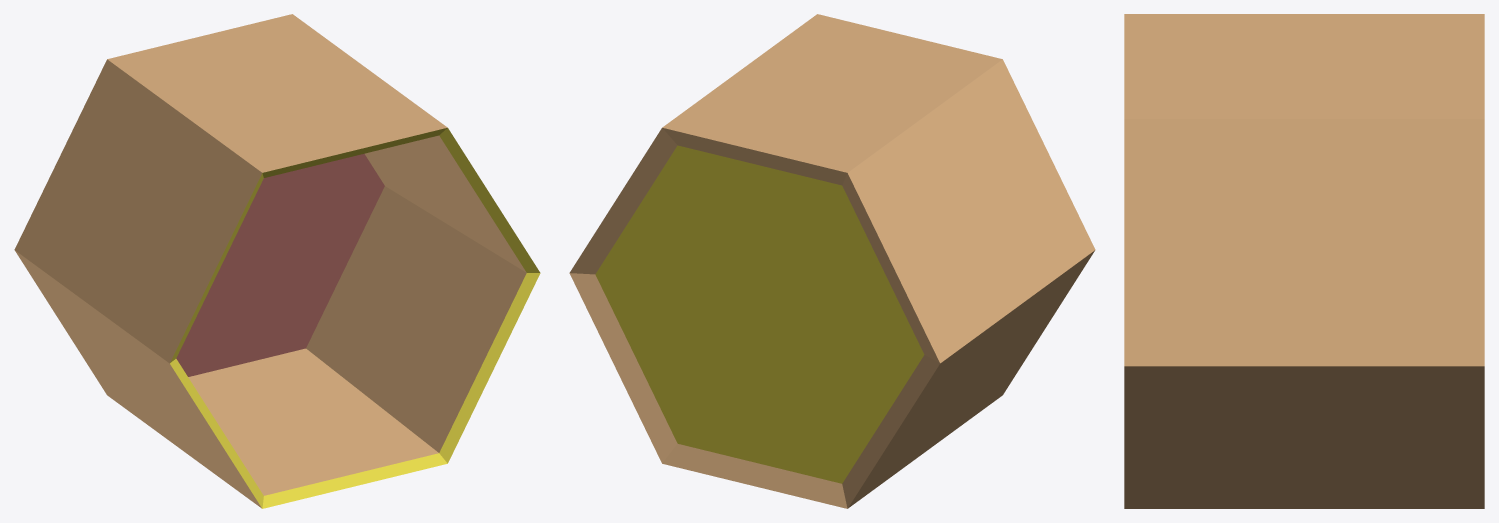
The model's file is BeehiveRed.glb.
The picture shows the model from 3 angles, left to right: view 1: azimuth 30°, elevation 25°; view 2: azimuth 150°, elevation 25°; view 3: azimuth 270°, elevation 25°; orthographic projection. The views are drawn at different scales.
Parts seen in each view (by area): view 1: pCylinder2.003; view 2: pCylinder2.003; view 3: pCylinder2.003.
Boxes of the visible parts, x1,y1,x2,y2 form: pCylinder2.003: (14, 14, 540, 508); pCylinder2.003: (569, 14, 1095, 508); pCylinder2.003: (1124, 14, 1484, 508).
Bounding box in the file's own units: 0.02 × 0.0173 × 0.0145.
